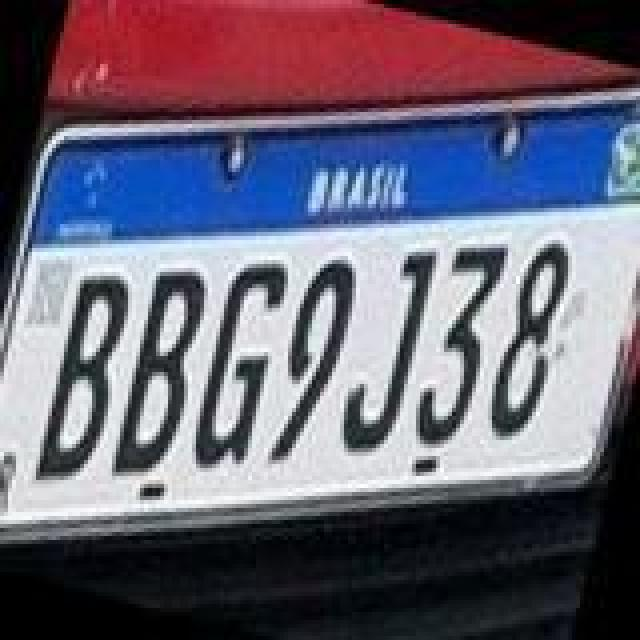3: (404, 228, 516, 460)
8: (474, 228, 582, 452)
9: (256, 246, 368, 474)
B: (30, 262, 146, 498), (102, 258, 218, 494)
G: (182, 252, 298, 484)
J: (328, 236, 440, 468)
